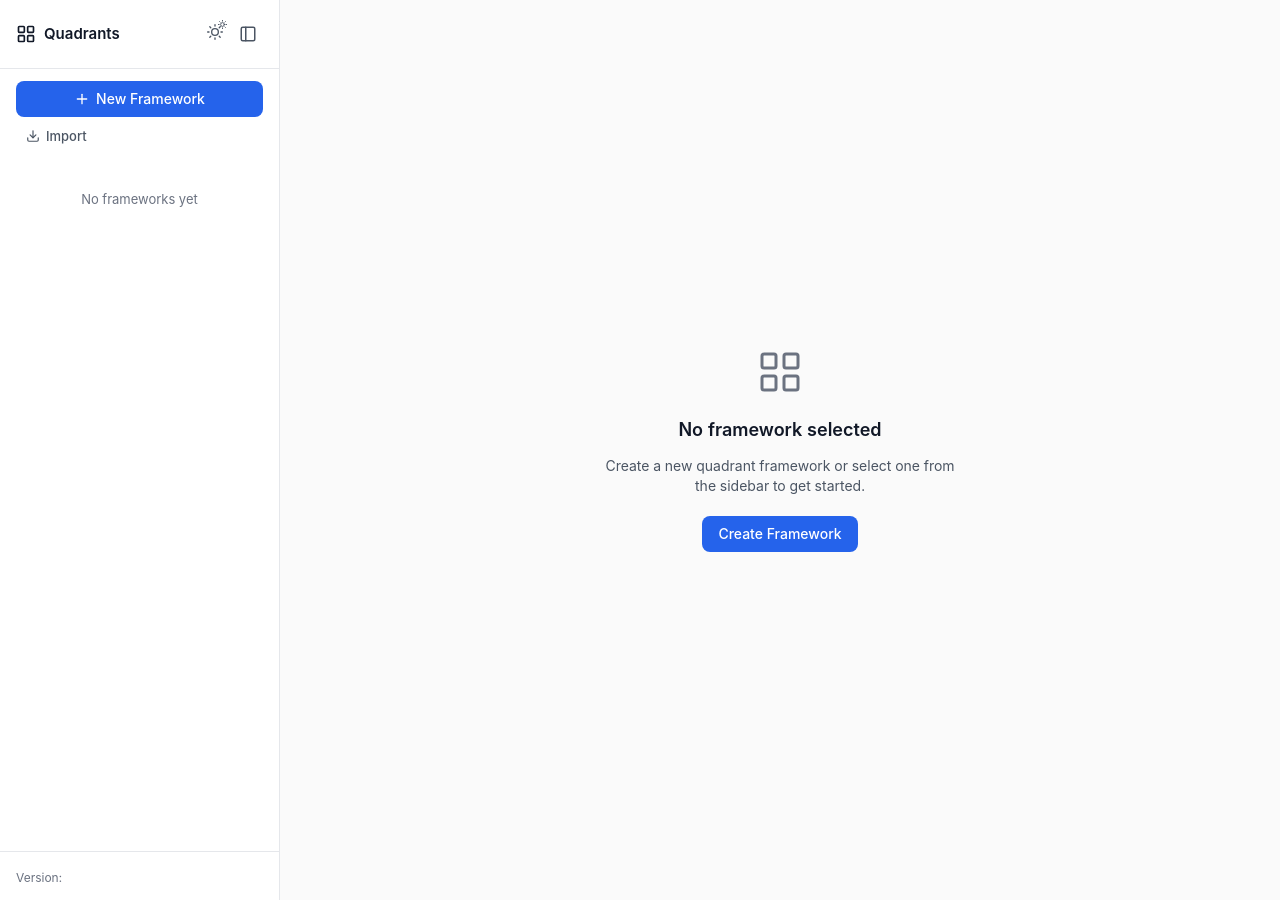
Test: App › mobile sidebar trigger placement (BUG-013) › keeps the floating opener outside the screen content on desktop
Click the button named "close sidebar". click: (248, 34)
box: 233,19 -> 263,49
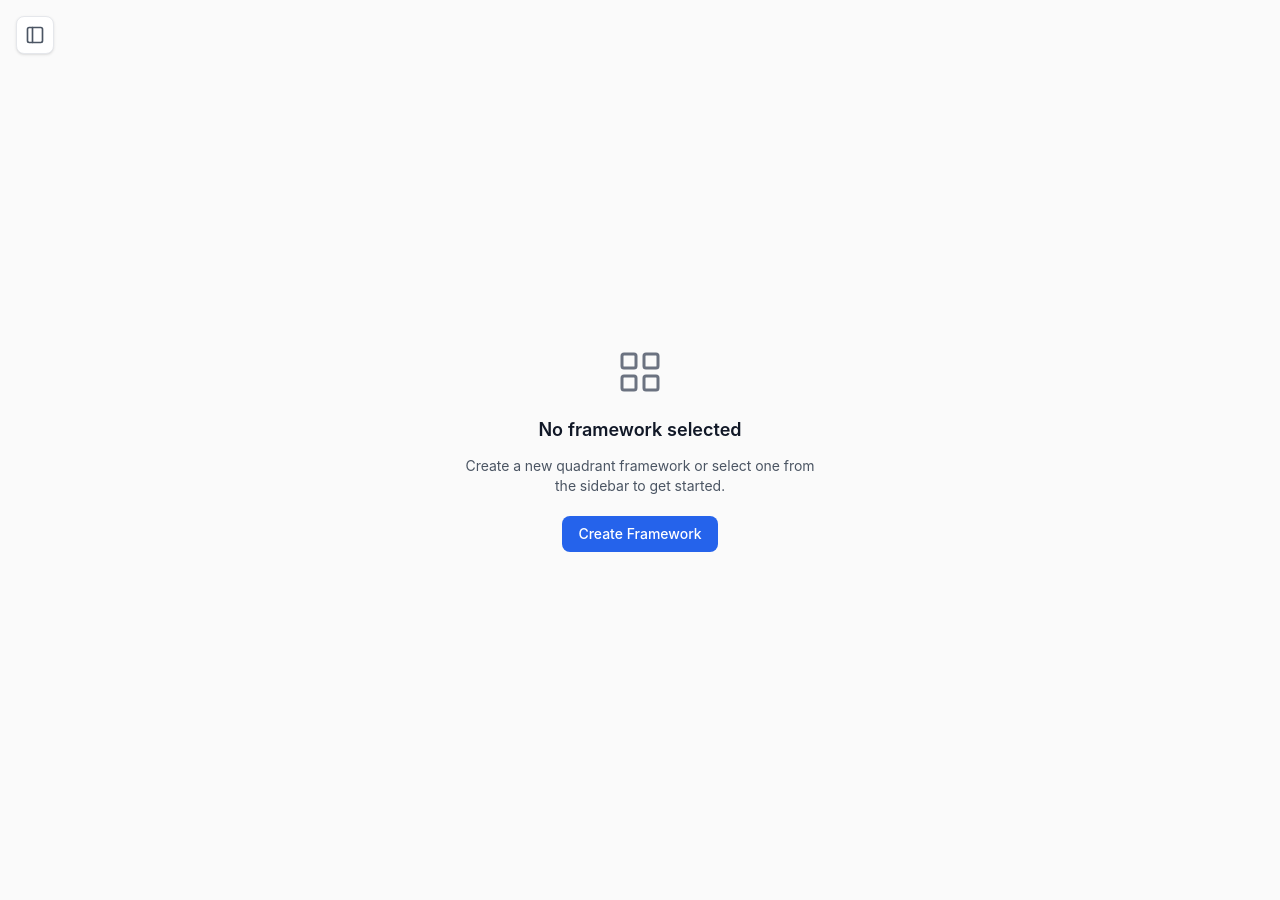
Expected: the number of buttons named "open sidebar" is 1, 16,16 -> 54,54
